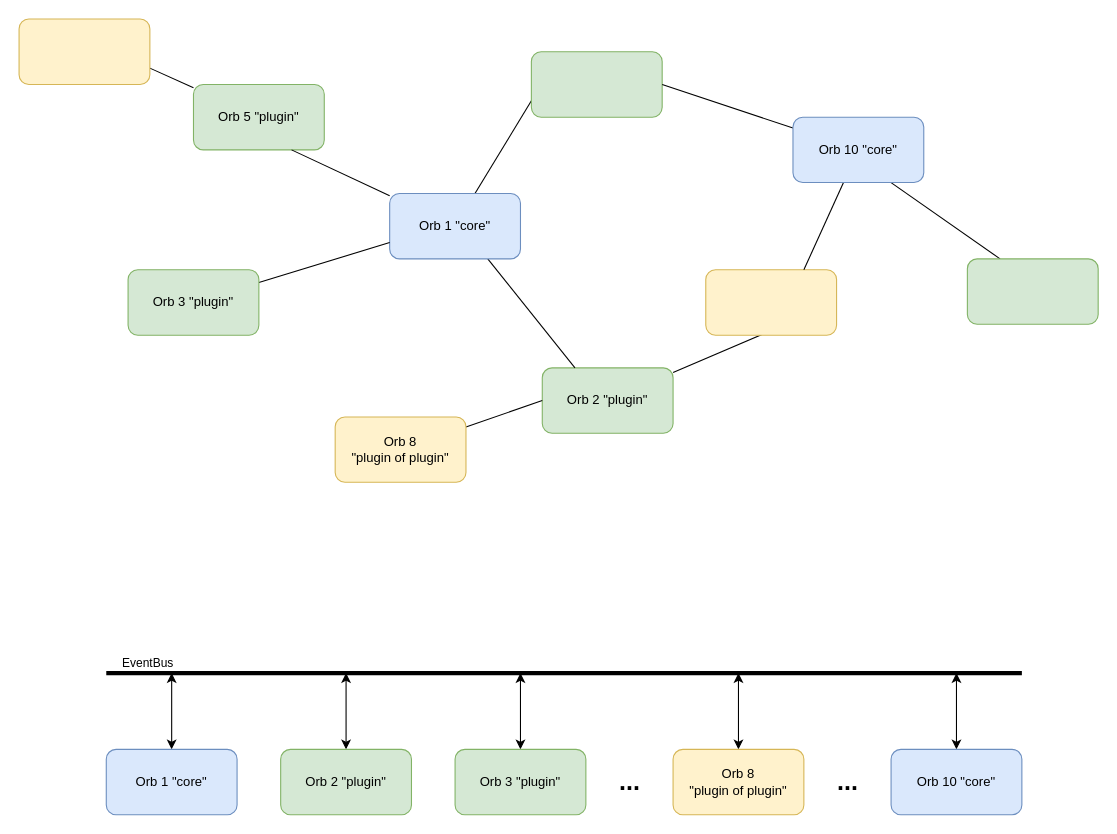
Some shapes in this 1117 by 834 pixel diagram are drawn without their labels. Each missing label, with the centre of its shape:
Orb 4 "plugin": point (596, 84)
Orb 6 "plugin of plugin": point (84, 51)
Orb 7 "plugin of plugin": point (771, 302)
Orb 9 "plugin": point (1032, 291)
